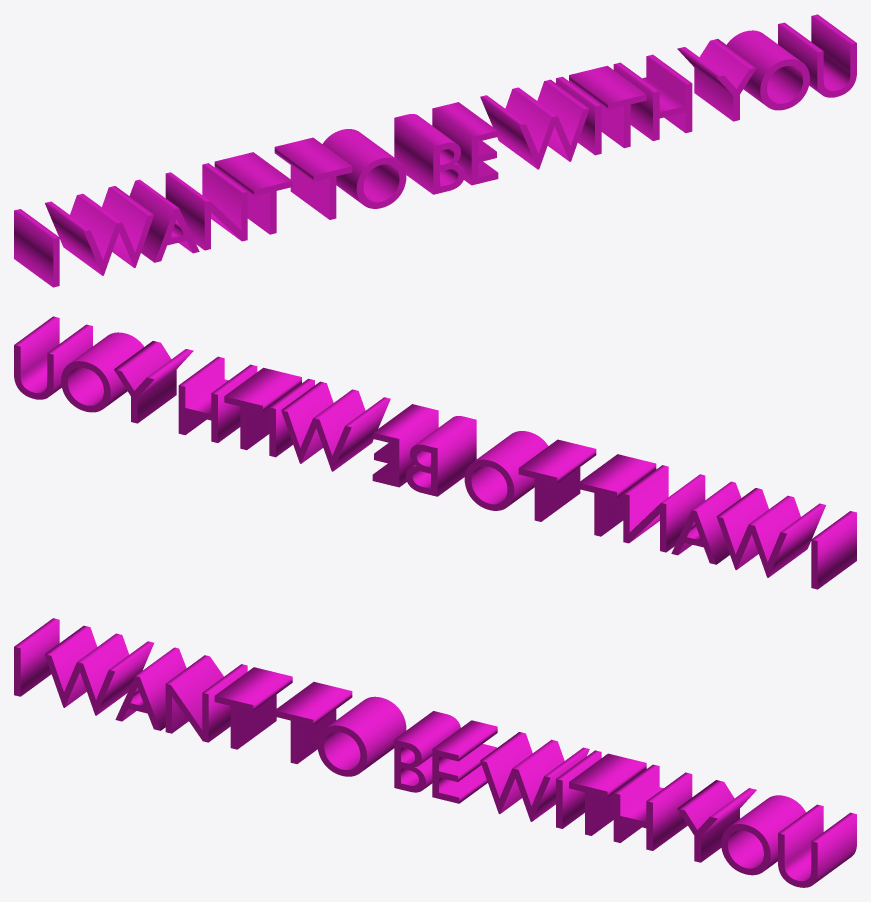
Rendered from Lust3.fbx.
The picture shows the model from 3 angles, top to bottom: view 1: azimuth 30°, elevation 25°; view 2: azimuth 150°, elevation 25°; view 3: azimuth 330°, elevation 25°; orthographic projection.
Parts seen in each view (by area): view 1: Text; view 2: Text; view 3: Text.
Part boxes in pixels (x1,y1,x2,y2): Text: [14, 14, 856, 287]; Text: [14, 316, 856, 589]; Text: [14, 618, 856, 887].
Size of the model in its own units: 1185 by 70 by 100.
